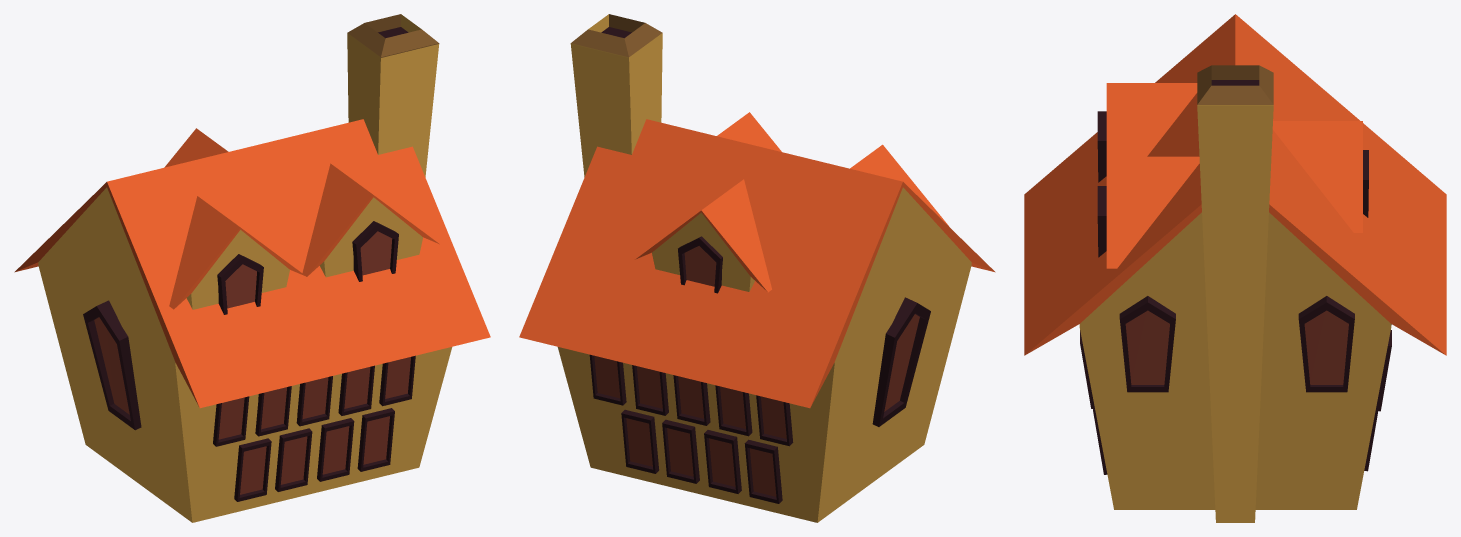
Rendered from house_3.fbx.
3 views of the same model, side by side, from view 1: azimuth 30°, elevation 25°; view 2: azimuth 150°, elevation 25°; view 3: azimuth 270°, elevation 25° (orthographic). The views are drawn at different scales.
Parts seen in each view (by area): view 1: Cube_Cube.003, Cube.011_Cube.015, Cube.001_Cube.004, Cube.002_Cube.006, Cube.004_Cube.008, Cube.010_Cube.014, Cube.006_Cube.010, Cube.005_Cube.009, Cube.003_Cube.007; view 2: Cube_Cube.003, Cube.012_Cube.028, Cube.001_Cube.004, Cube.003_Cube.007, Cube.010_Cube.014, Cube.007_Cube.011, Cube.002_Cube.006, Cube.004_Cube.008; view 3: Cube_Cube.003, Cube.001_Cube.004, Cube.004_Cube.008, Cube.003_Cube.007, Cube.002_Cube.006, Cube.008_Cube.012, Cube.009_Cube.013, Cube.006_Cube.010, Cube.005_Cube.009, Cube.012_Cube.028, Cube.011_Cube.015.
Part boxes in pixels (left/top/right/bottom): Cube_Cube.003: left=14, top=119, right=490, bottom=522; Cube.011_Cube.015: left=213, top=355, right=415, bottom=501; Cube.001_Cube.004: left=347, top=14, right=439, bottom=177; Cube.002_Cube.006: left=169, top=196, right=306, bottom=309; Cube.004_Cube.008: left=302, top=163, right=439, bottom=277; Cube.010_Cube.014: left=83, top=300, right=141, bottom=430; Cube.006_Cube.010: left=217, top=254, right=263, bottom=314; Cube.005_Cube.009: left=352, top=221, right=398, bottom=281; Cube.003_Cube.007: left=164, top=128, right=228, bottom=167; Cube_Cube.003: left=519, top=119, right=995, bottom=522; Cube.012_Cube.028: left=589, top=354, right=793, bottom=503; Cube.001_Cube.004: left=570, top=14, right=662, bottom=177; Cube.003_Cube.007: left=635, top=179, right=771, bottom=292; Cube.010_Cube.014: left=872, top=297, right=930, bottom=426; Cube.007_Cube.011: left=678, top=236, right=722, bottom=293; Cube.002_Cube.006: left=850, top=144, right=948, bottom=225; Cube.004_Cube.008: left=717, top=112, right=781, bottom=151; Cube_Cube.003: left=1024, top=14, right=1446, bottom=509; Cube.001_Cube.004: left=1197, top=65, right=1273, bottom=522; Cube.004_Cube.008: left=1106, top=156, right=1199, bottom=268; Cube.003_Cube.007: left=1272, top=121, right=1362, bottom=232; Cube.002_Cube.006: left=1106, top=83, right=1197, bottom=156; Cube.008_Cube.012: left=1119, top=296, right=1175, bottom=392; Cube.009_Cube.013: left=1298, top=296, right=1354, bottom=392; Cube.006_Cube.010: left=1097, top=111, right=1106, bottom=182; Cube.005_Cube.009: left=1097, top=186, right=1106, bottom=257; Cube.012_Cube.028: left=1364, top=324, right=1391, bottom=471; Cube.011_Cube.015: left=1080, top=330, right=1107, bottom=474.
Bounding box in the file's own units: 429 × 495 × 421.
